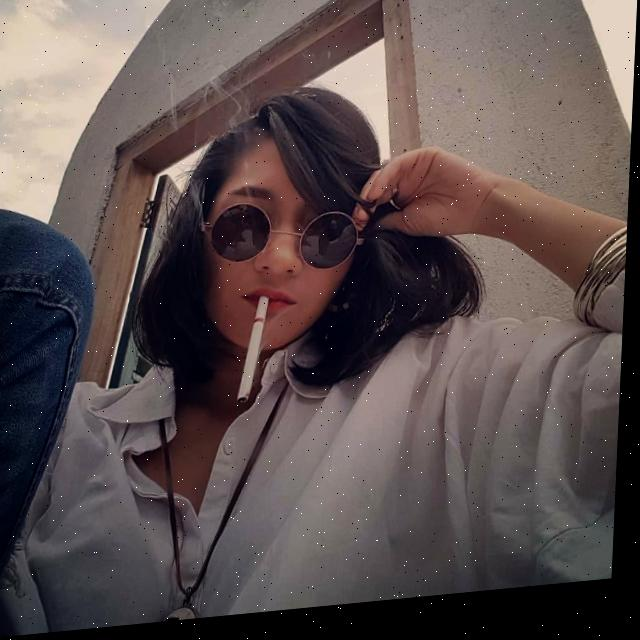cigarette: (241, 301, 273, 410)
